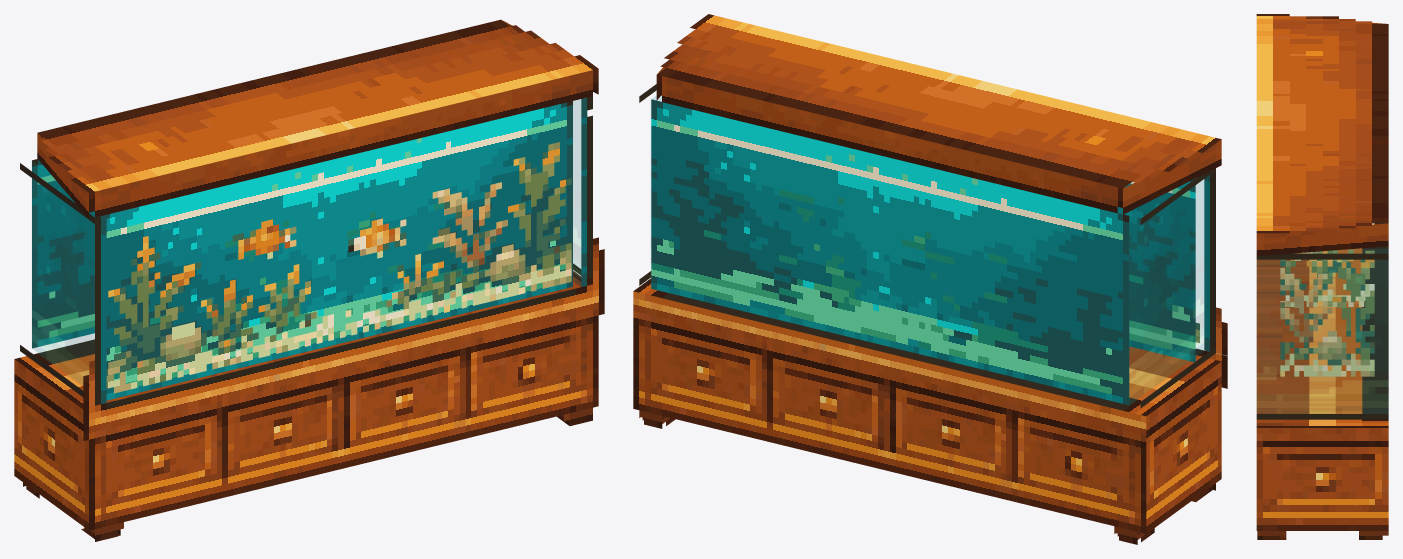
The model's file is source-model.glb.
3 views of the same model, side by side, from view 1: azimuth 30°, elevation 25°; view 2: azimuth 150°, elevation 25°; view 3: azimuth 270°, elevation 25° (orthographic). The views are drawn at different scales.
Parts seen in each view (by area): view 1: Source cabinet molding doors and feet, Clean source water, Painted hood top, Source foreground plants and gravel, Painted hood front lip, Illustrated glass side (×2), Teal rear tank backing, Cabinet side door, Source tank edge linework, Cabinet upper surface, Painted fish profile (×2), Solid hood side; view 2: Teal rear tank backing, Finished cabinet rear, Painted hood top, Illustrated glass side, Finished hood rear, Clean source water, Cabinet side door, Cabinet upper surface, Solid hood side, Source tank edge linework; view 3: Painted hood top, Illustrated glass side, Cabinet upper surface, Cabinet side door, Depth planted foliage (×2), Solid hood side, Tank upper side rim, Tank lower side rim, Foot outer side, Rear foot side.
Part boxes in pixels (x1,y1,x2,y2): Source cabinet molding doors and feet: [83, 281, 604, 541]; Clean source water: [106, 101, 572, 400]; Painted hood top: [38, 19, 598, 192]; Source foreground plants and gravel: [106, 142, 571, 393]; Painted hood front lip: [89, 69, 598, 217]; Illustrated glass side (×2): [32, 99, 580, 384]; Teal rear tank backing: [32, 159, 94, 348]; Cabinet side door: [14, 359, 88, 530]; Source tank edge linework: [95, 96, 592, 405]; Cabinet upper surface: [14, 271, 581, 408]; Painted fish profile (×2): [232, 218, 406, 259]; Solid hood side: [37, 133, 88, 218]; Teal rear tank backing: [651, 99, 1129, 405]; Finished cabinet rear: [633, 291, 1146, 533]; Painted hood top: [657, 14, 1221, 188]; Illustrated glass side: [1129, 180, 1203, 404]; Finished hood rear: [656, 75, 1122, 213]; Clean source water: [1117, 178, 1195, 362]; Cabinet side door: [1146, 361, 1221, 533]; Cabinet upper surface: [633, 278, 1220, 416]; Solid hood side: [1123, 139, 1221, 214]; Source tank edge linework: [1204, 168, 1215, 352]; Painted hood top: [1256, 14, 1388, 233]; Illustrated glass side: [1257, 249, 1387, 413]; Cabinet upper surface: [1256, 223, 1388, 427]; Cabinet side door: [1256, 428, 1388, 530]; Depth planted foliage (×2): [1280, 249, 1374, 376]; Solid hood side: [1256, 223, 1388, 256]; Tank upper side rim: [1256, 253, 1388, 259]; Tank lower side rim: [1256, 414, 1388, 419]; Foot outer side: [1257, 531, 1286, 539]; Rear foot side: [1359, 531, 1388, 539].
Bounding box in the file's own units: 90 × 57.83 × 22.4.
41 materials, 41 textured.
